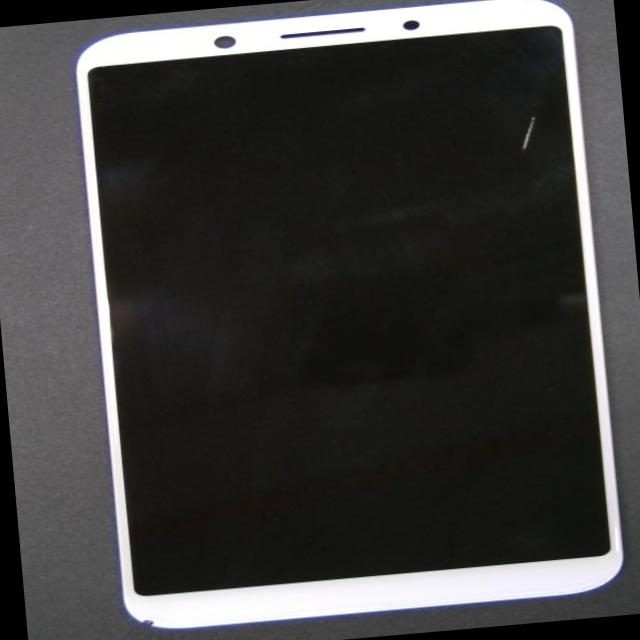scratch: (510, 102, 546, 154)
